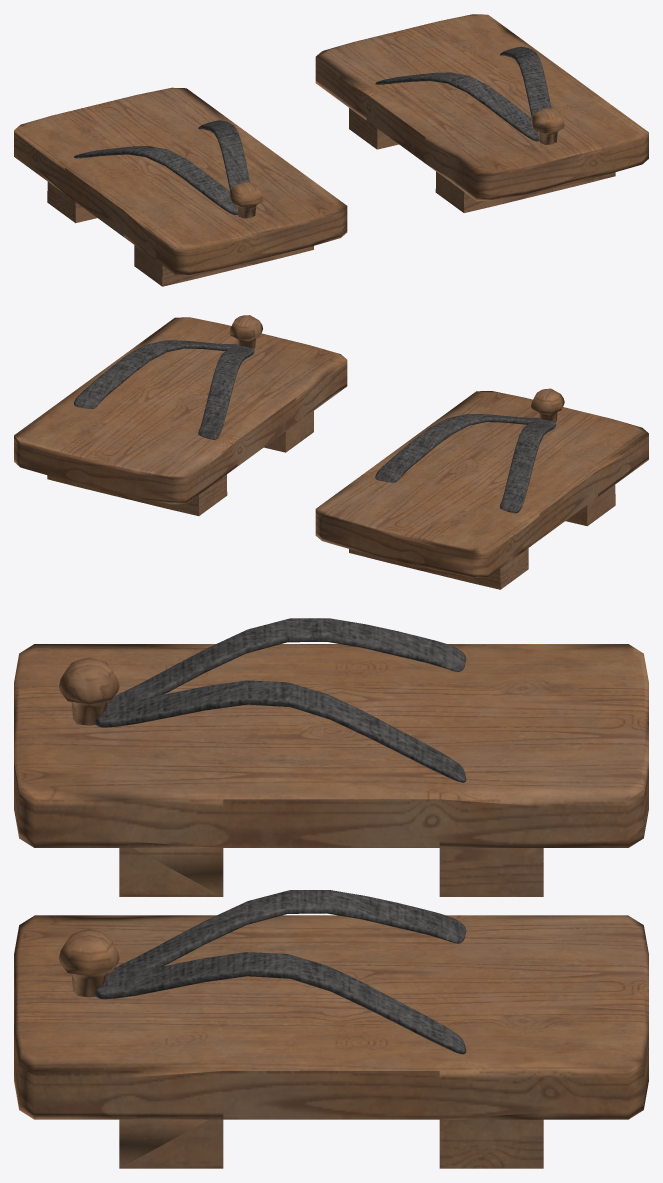
The model's file is geta-user-v52.glb.
The picture shows the model from 3 angles, top to bottom: view 1: azimuth 30°, elevation 25°; view 2: azimuth 150°, elevation 25°; view 3: azimuth 270°, elevation 25°; orthographic projection. The views are drawn at different scales.
Visible parts, largest first — view 1: pCube9_lambert1_0; view 2: pCube9_lambert1_0; view 3: pCube9_lambert1_0.
Part boxes in pixels (<box>): pCube9_lambert1_0: <box>14,14,648,286</box>; pCube9_lambert1_0: <box>14,315,648,589</box>; pCube9_lambert1_0: <box>14,618,648,1168</box>.
Bounding box in the file's own units: 0.4059 × 0.076 × 0.255.
1 material, 1 textured.
